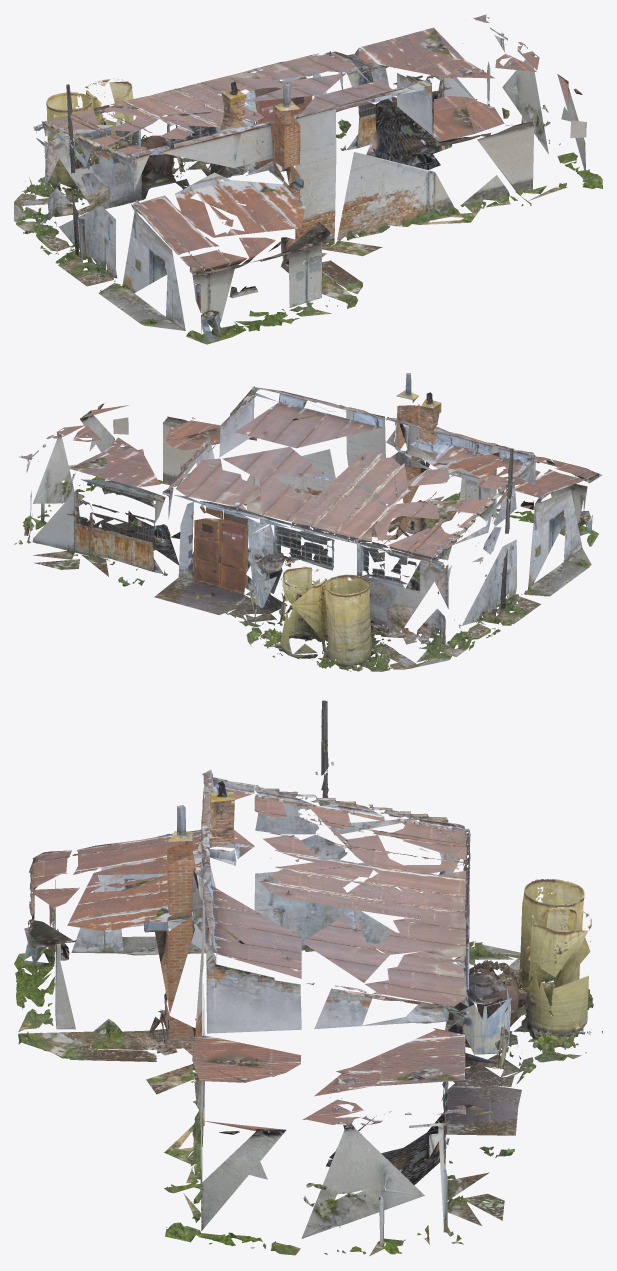
Rendered from ustor.glb.
3 renders of one model, top to bottom at view 1: azimuth 30°, elevation 25°; view 2: azimuth 150°, elevation 25°; view 3: azimuth 270°, elevation 25°, orthographic. The views are drawn at different scales.
Visible parts, largest first — view 1: hara; view 2: hara; view 3: hara.
Boxes of the visible parts, box(x1,y1,x2,y2) form: hara: box(14, 14, 602, 344); hara: box(14, 373, 602, 671); hara: box(14, 700, 602, 1256).
Bounding box in the file's own units: 19.19 × 6.81 × 14.86.
7 materials, 7 textured.
